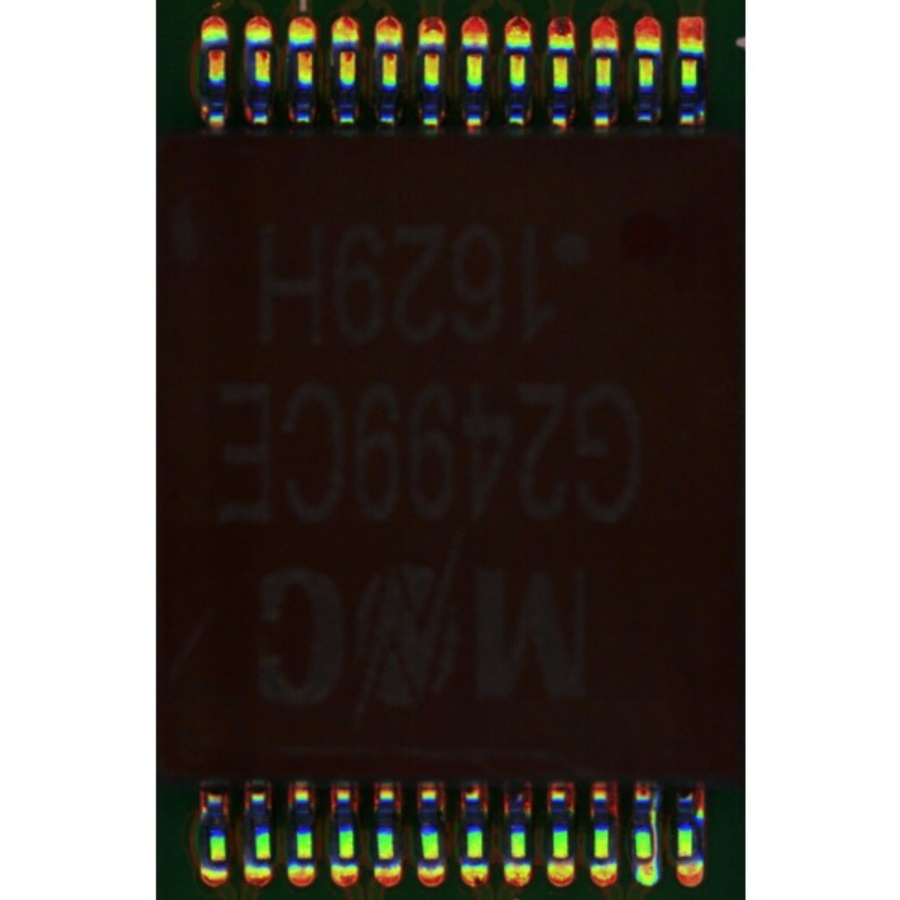Bad_podu: (639, 846, 653, 873)
Bad_qiaojiao: (650, 787, 659, 856)
